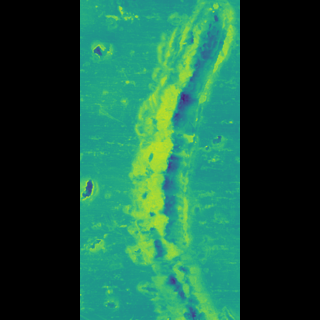Loch: (141, 0, 198, 320), (131, 0, 159, 29), (121, 218, 138, 256), (121, 37, 138, 70), (120, 174, 129, 204)
